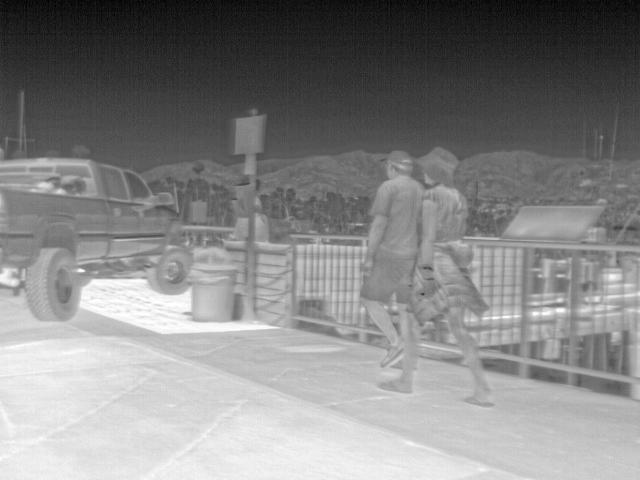car: (1, 151, 192, 320)
person: (377, 145, 496, 406), (354, 147, 422, 370)
